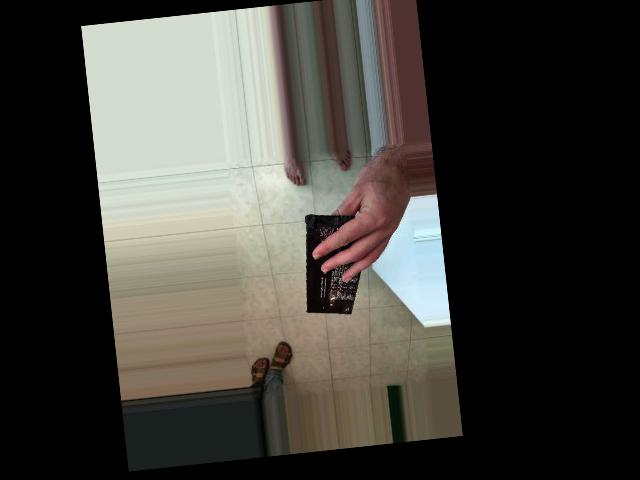chocolate: (223, 249, 351, 341)
